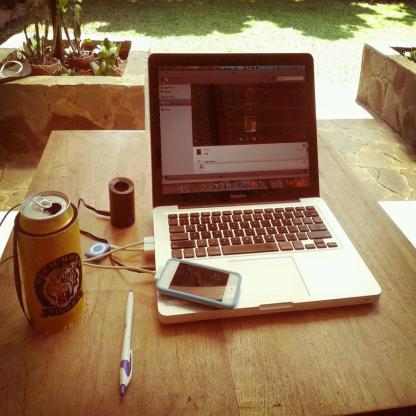board: (148, 53, 380, 322), (20, 192, 86, 330)
